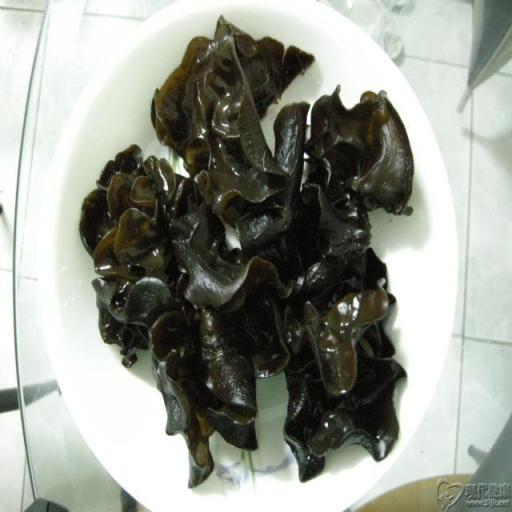mushroom: (78, 15, 414, 489)
